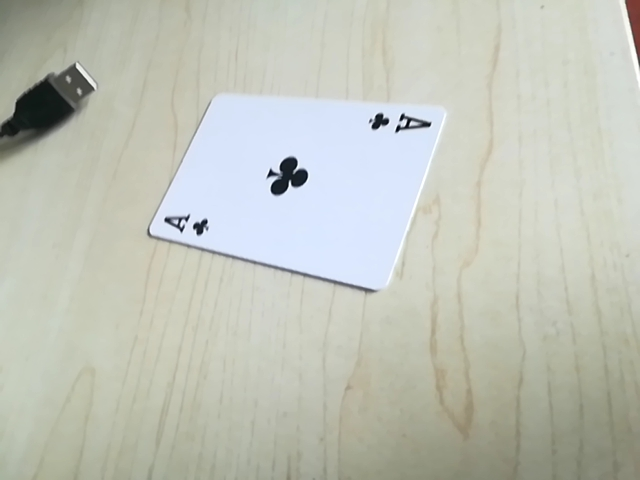mh a: (361, 107, 438, 142), (152, 205, 217, 242)
